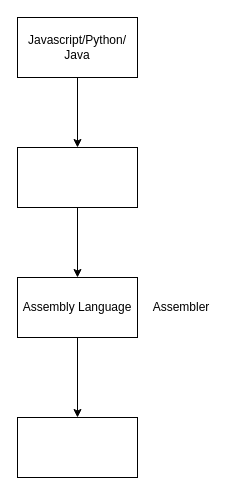
The diagram is 229 pixels wide and 495 high, and some of its shapes have lost their labels. Each missing label, with the box of its shape:
C/C++/Rust: (16, 146, 138, 208)
Machine Code ==> 0101001(binary): (16, 416, 138, 478)
